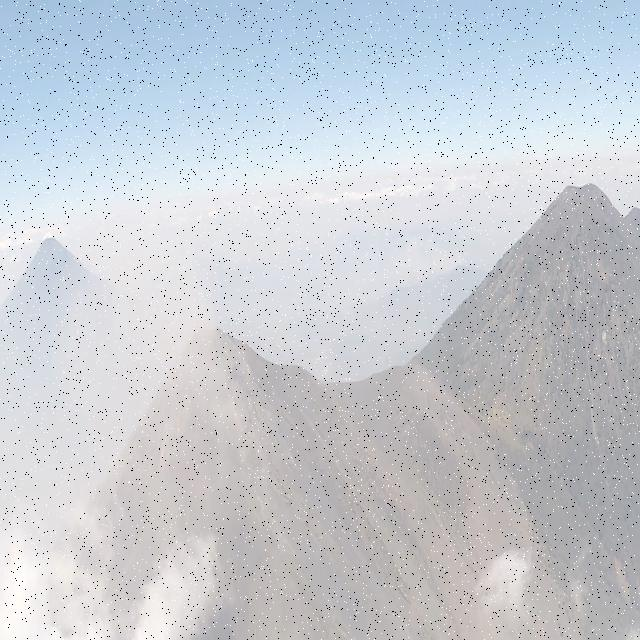Summit: (94, 316, 336, 489)
